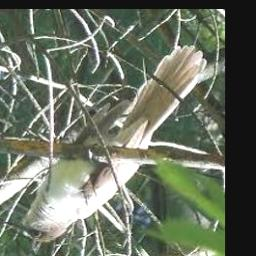Cuckoo: (3, 46, 207, 242)
